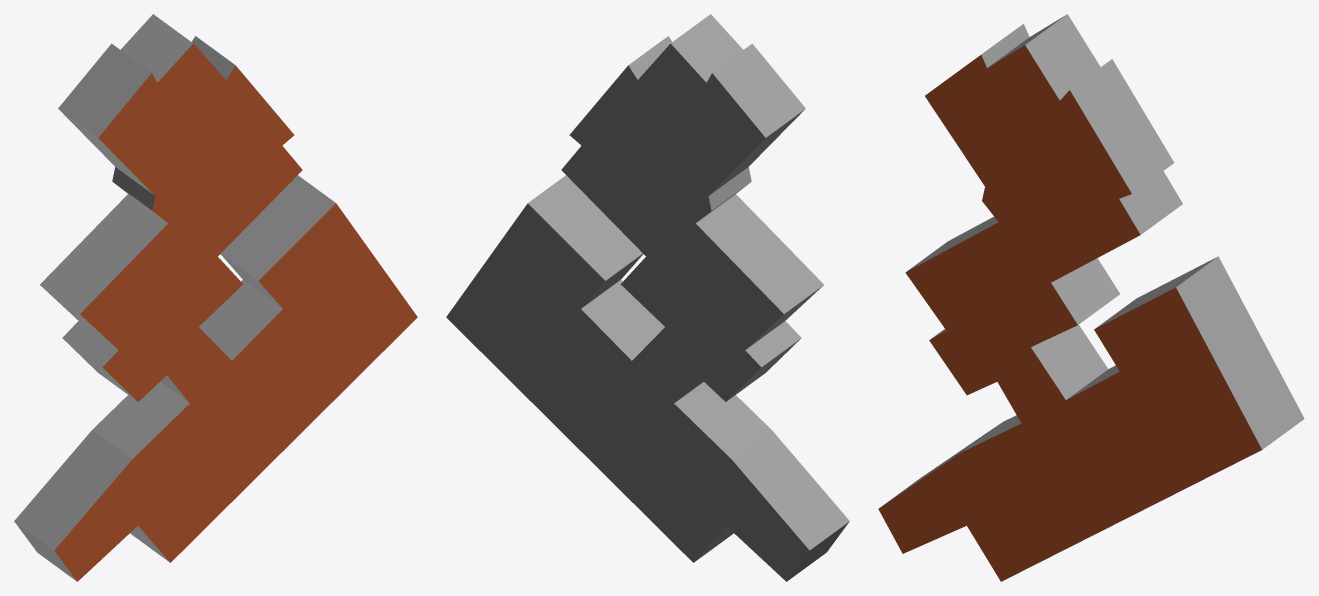
Rendered from construction_4753_assumed_A_Casa_h6m.obj.
The picture shows the model from 3 angles, left to right: view 1: azimuth 30°, elevation 25°; view 2: azimuth 150°, elevation 25°; view 3: azimuth 330°, elevation 25°; orthographic projection. The views are drawn at different scales.
Visible parts, largest first — view 1: construction_4753_assumed_A_Casa; view 2: construction_4753_assumed_A_Casa; view 3: construction_4753_assumed_A_Casa.
Boxes of the visible parts, left/top/right/bottom form: construction_4753_assumed_A_Casa: left=14, top=14, right=417, bottom=581; construction_4753_assumed_A_Casa: left=446, top=14, right=849, bottom=581; construction_4753_assumed_A_Casa: left=878, top=14, right=1304, bottom=581.
Size of the model in its own units: 31.33 by 42.32 by 6.
